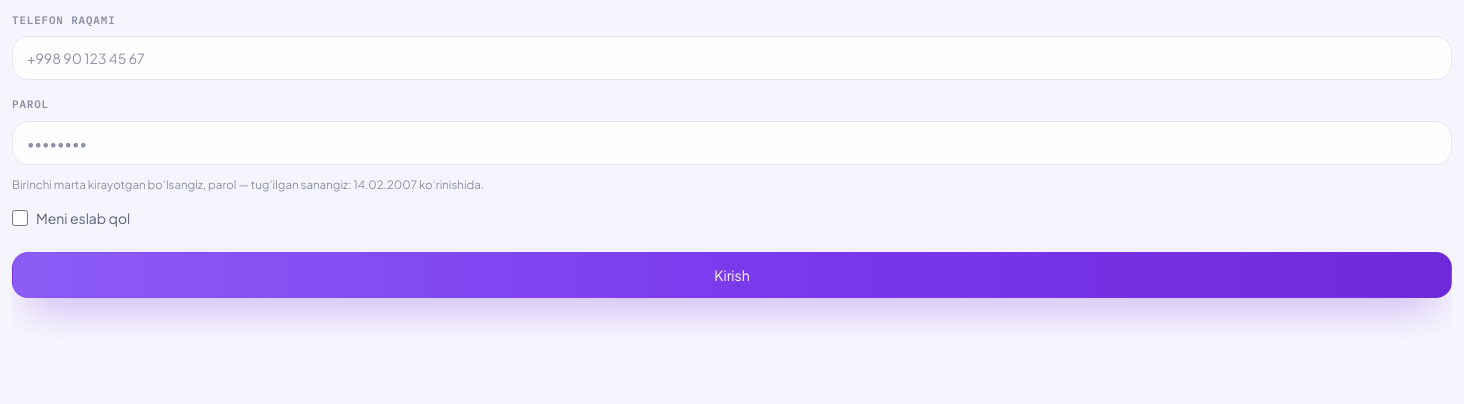
Scenario: LoginForm › tokenda rol bo’lmasa kirishga ruxsat bermaydi
Type "+998901234567" into the field labelled "Telefon raqami" at (732, 58), box top-left (12, 36), bottom-right (1452, 80)
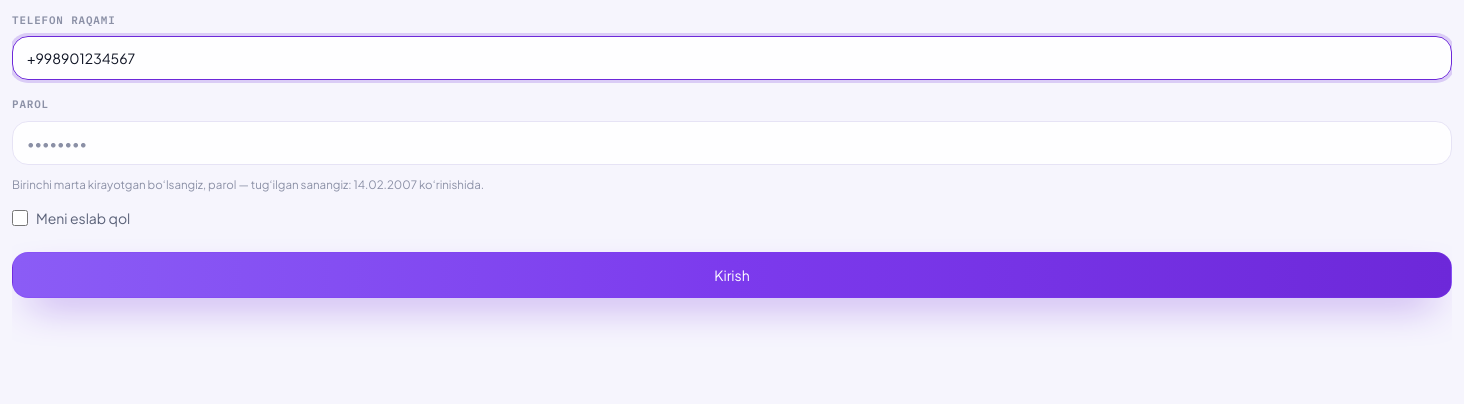
Type "secret" into the password field labelled "Parol" at (732, 143), box top-left (12, 121), bottom-right (1452, 165)
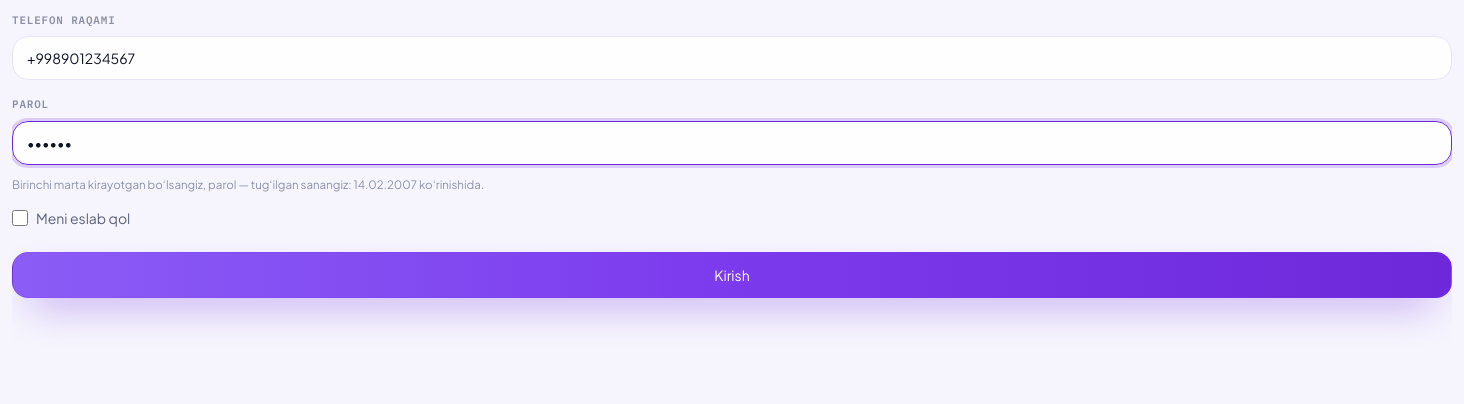
Click the button "Kirish" at (732, 276), box top-left (12, 252), bottom-right (1452, 298)
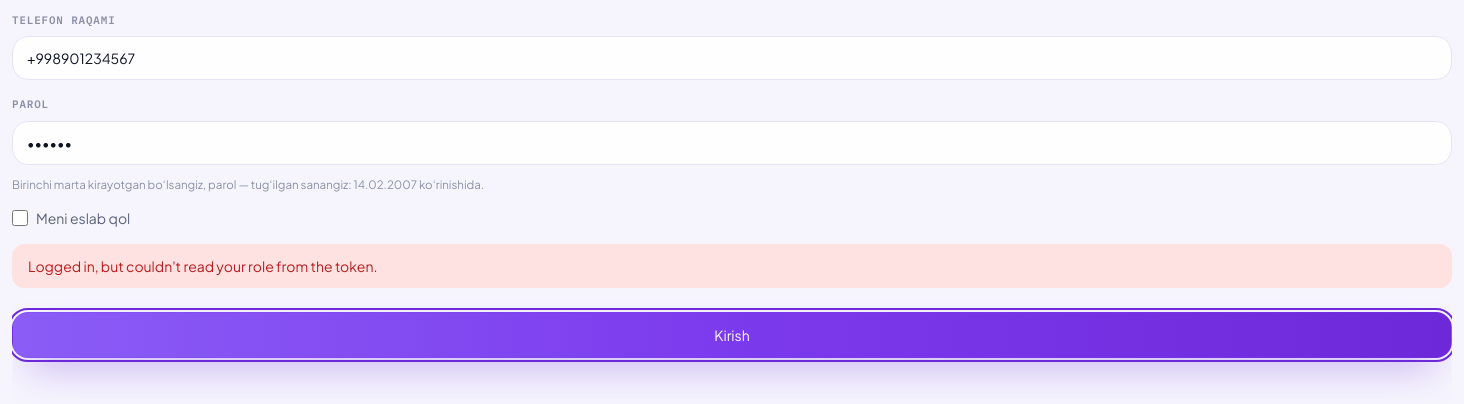
Now the message shows "rol", box top-left (12, 244), bottom-right (1452, 288)
